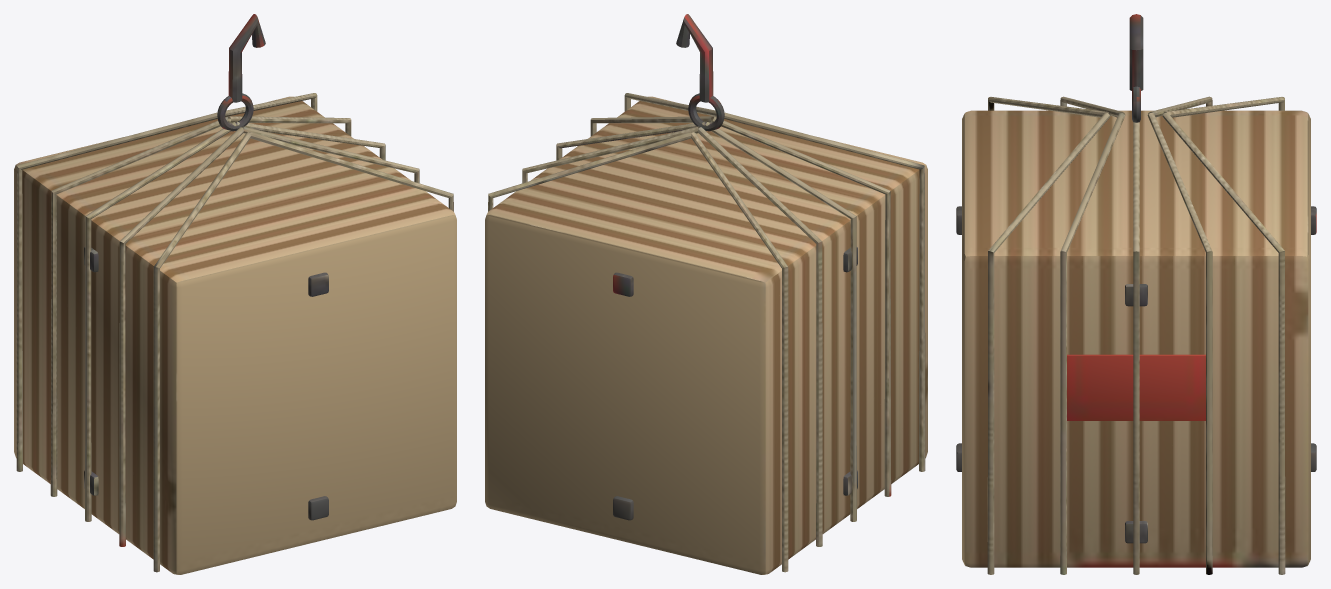
File: trap_crate.glb
The picture shows the model from 3 angles, left to right: view 1: azimuth 30°, elevation 25°; view 2: azimuth 150°, elevation 25°; view 3: azimuth 270°, elevation 25°; orthographic projection. The views are drawn at different scales.
Visible parts, largest first — view 1: crate, net_a4, net_a1, net_a0, net_a2, net_a3, net_b0, hook, net_b1, net_b2, net_b3, hook_eye (+1 smaller); view 2: crate, net_a0, net_a3, net_a4, net_a2, net_a1, net_b4, hook, net_b3, net_b2, net_b1, hook_eye (+1 smaller); view 3: crate, stencil, net_b4, net_b0, net_b1, net_b3, net_b2, hook, net_a0, net_a4.
Part boxes in pixels (box(x1,y1,x2,y2)): crate: box(14, 96, 456, 574); net_a4: box(16, 112, 217, 471); net_a1: box(119, 127, 243, 546); net_a0: box(153, 132, 250, 572); net_a2: box(85, 122, 236, 521); net_a3: box(50, 116, 229, 496); net_b0: box(249, 131, 453, 211); hook: box(228, 14, 265, 102); net_b1: box(242, 126, 419, 183); net_b2: box(235, 121, 385, 160); net_b3: box(228, 116, 351, 136); hook_eye: box(217, 93, 253, 131); crate: box(485, 96, 927, 574); net_a0: box(724, 112, 925, 471); net_a3: box(698, 127, 822, 546); net_a4: box(691, 132, 788, 572); net_a2: box(705, 122, 856, 521); net_a1: box(712, 116, 891, 496); net_b4: box(488, 131, 692, 211); hook: box(676, 14, 713, 102); net_b3: box(522, 126, 699, 183); net_b2: box(556, 121, 706, 160); net_b1: box(590, 116, 713, 136); hook_eye: box(688, 93, 724, 131); crate: box(962, 110, 1310, 567); stencil: box(1067, 354, 1205, 420); net_b4: box(1162, 112, 1285, 574); net_b0: box(987, 112, 1110, 574); net_b1: box(1060, 112, 1125, 574); net_b3: box(1147, 112, 1212, 574); net_b2: box(1133, 122, 1139, 574); hook: box(1129, 14, 1143, 90); net_a0: box(988, 97, 1110, 117); net_a4: box(1162, 97, 1284, 117).
Bounding box in the file's own units: 1.26 × 1.87 × 1.24.
Materials: 1 (1 with a texture image).
